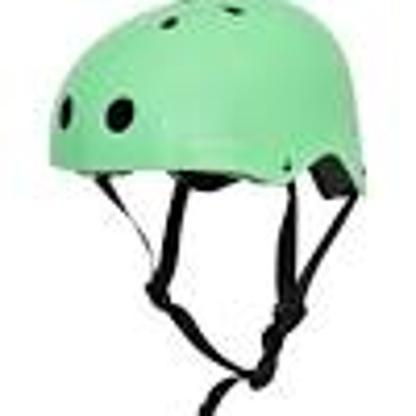not trash: (41, 0, 376, 416)
